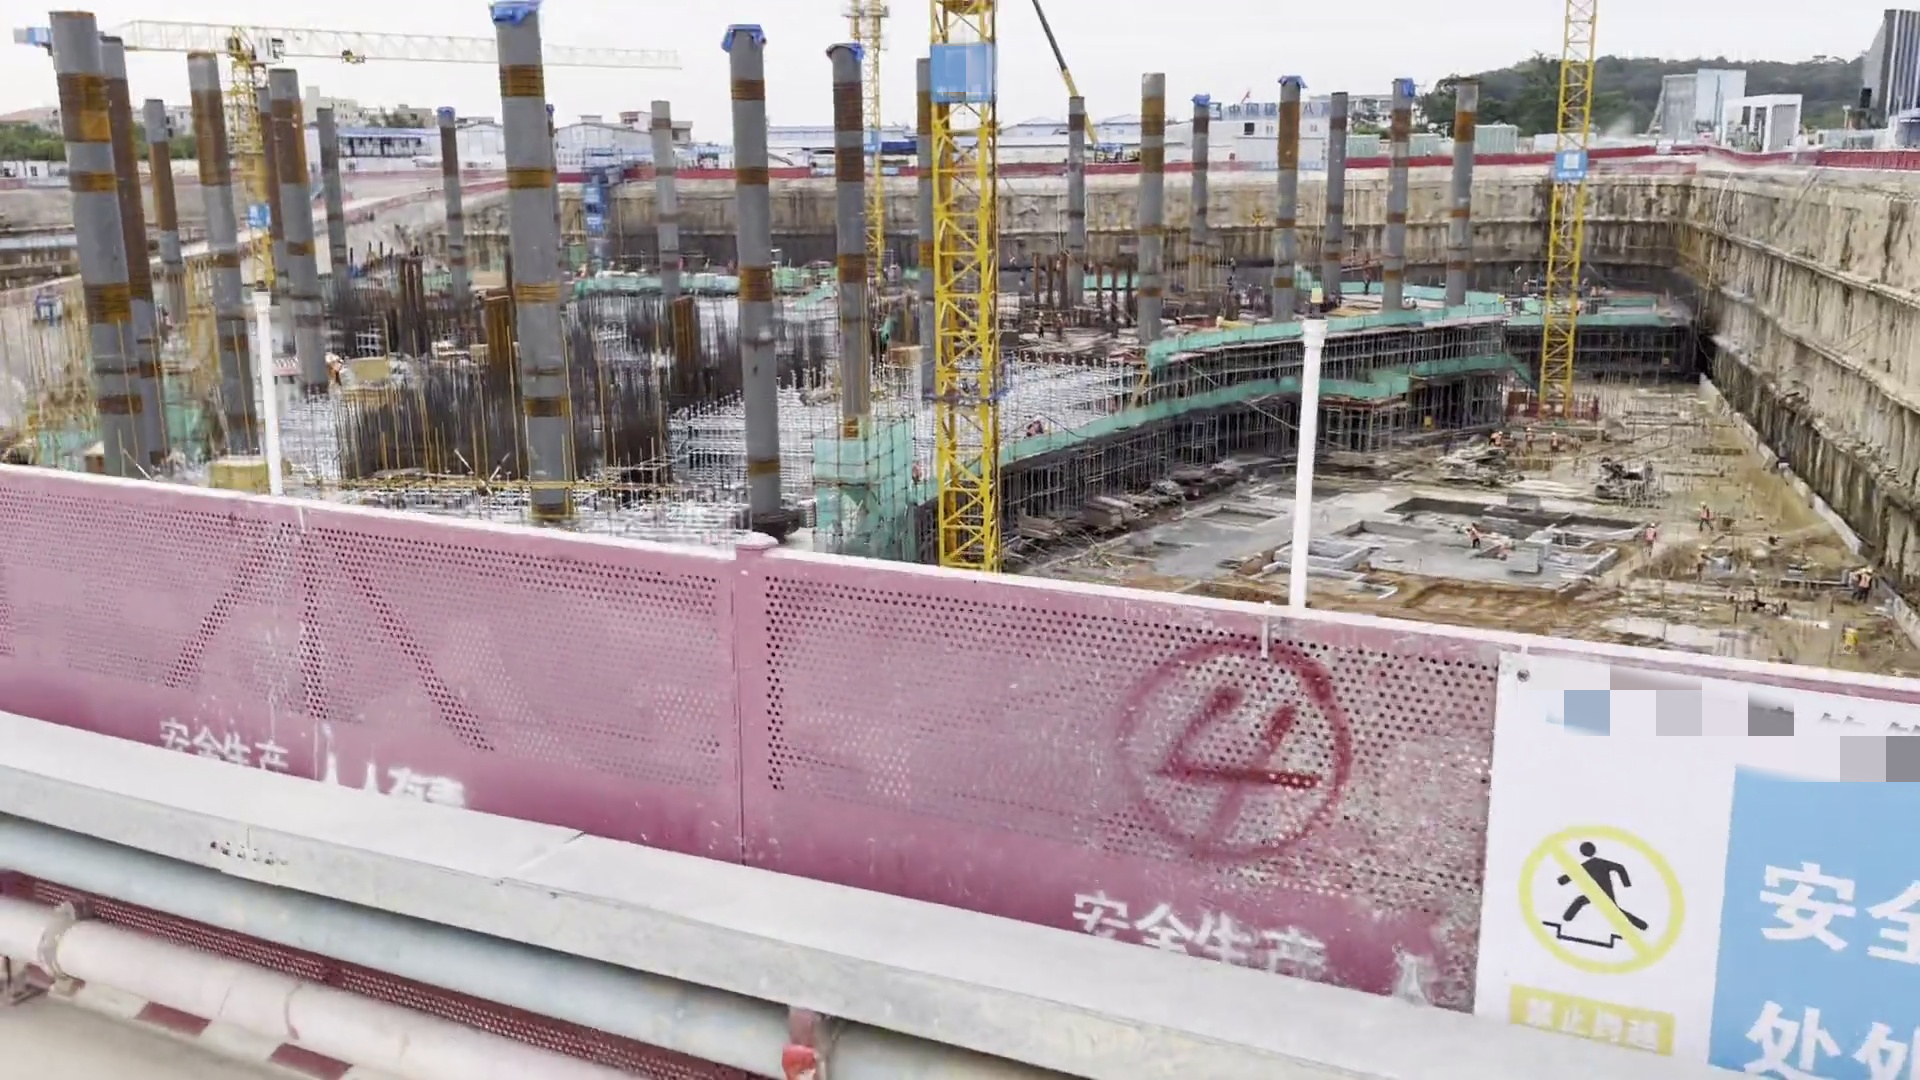brick: (1307, 535, 1370, 566), (1307, 562, 1367, 585), (1479, 513, 1522, 535), (1524, 529, 1558, 554), (1264, 559, 1290, 576), (1274, 542, 1291, 562)
fence: (677, 597, 1920, 1080), (2, 457, 918, 845)
helmet: (1699, 498, 1709, 506), (1526, 425, 1533, 431), (1038, 308, 1045, 317), (1057, 313, 1065, 319), (1496, 429, 1502, 435), (1551, 430, 1557, 436), (1462, 524, 1468, 531), (1650, 521, 1655, 527)
person: (1461, 515, 1494, 568), (1019, 300, 1046, 351), (1692, 495, 1720, 539), (1647, 506, 1665, 572), (1543, 426, 1571, 470), (1054, 301, 1073, 361), (1523, 424, 1542, 476), (1494, 420, 1508, 469)
scaffold: (792, 493, 830, 532)
slogan: (1449, 622, 1920, 1080), (903, 38, 1014, 116), (579, 161, 625, 272), (1534, 141, 1592, 199), (231, 201, 287, 237), (857, 130, 898, 161)
vest: (1469, 529, 1479, 544), (1645, 528, 1655, 542), (1550, 434, 1559, 450), (1055, 320, 1065, 333), (1701, 507, 1710, 521), (1527, 432, 1535, 447), (1037, 316, 1044, 330), (1495, 434, 1503, 444)
wood: (204, 452, 301, 491), (344, 354, 393, 386)
